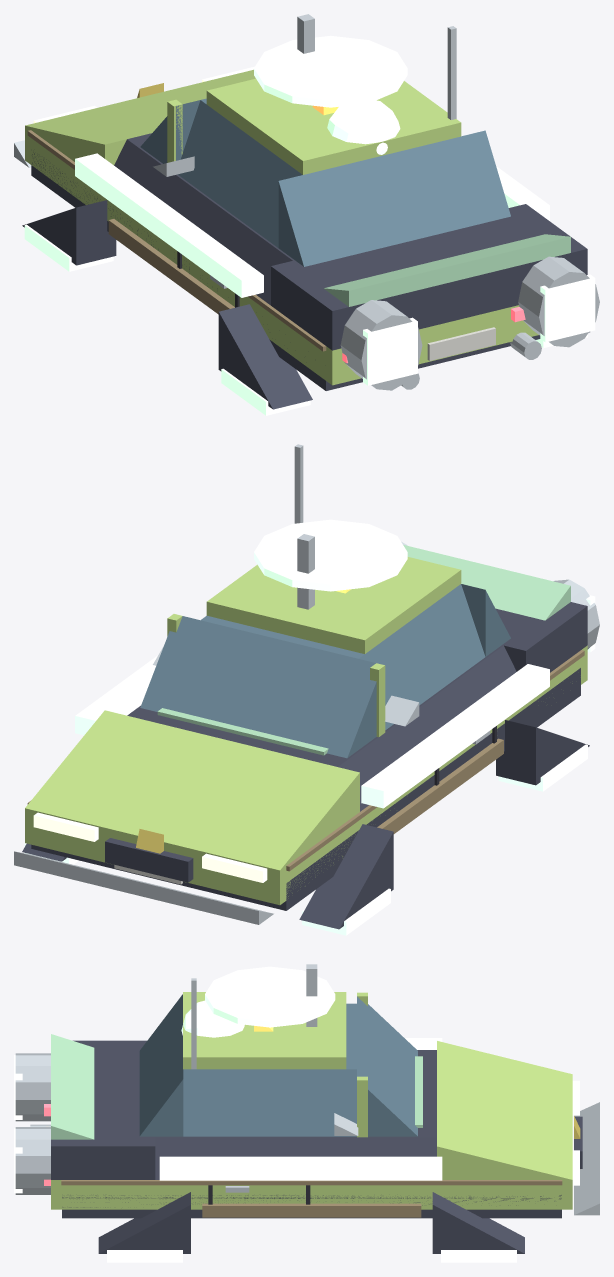
The model's file is moonbeam_mover.glb.
The picture shows the model from 3 angles, top to bottom: view 1: azimuth 30°, elevation 25°; view 2: azimuth 150°, elevation 25°; view 3: azimuth 270°, elevation 25°; orthographic projection. The views are drawn at different scales.
Visible parts, largest first — view 1: RearWindow.216, Tail.116, Roof.316, Body.316, HaloRing.016, CabinSideL.113, FloatFin-1.058, Nose.113, Ducktail.079, ShoulderL.113, HoverPodWheel_RL.058, HoverPodWheel_FL.058 (+17 smaller); view 2: Nose.113, Windshield.216, Roof.316, HaloRing.016, CabinSideL.113, Body.316, FloatFin-1.058, Sill.312, ShoulderL.113, HoverPodWheel_FL.058, Ducktail.079, Tail.116 (+19 smaller); view 3: Nose.113, CabinSideR.113, Body.316, Tail.116, Roof.316, FloatFin1.058, Windshield.216, HaloRing.016, ShoulderR.113, RearWindow.216, Ducktail.079, HoverPodWheel_FR.058 (+17 smaller).
Part boxes in pixels (bbox=[...]): RearWindow.216: bbox=[278, 130, 510, 266]; Tail.116: bbox=[271, 204, 587, 350]; Roof.316: bbox=[206, 78, 461, 174]; Body.316: bbox=[25, 126, 538, 385]; HaloRing.016: bbox=[254, 35, 407, 107]; CabinSideL.113: bbox=[178, 100, 302, 247]; FloatFin-1.058: bbox=[75, 153, 263, 297]; Nose.113: bbox=[25, 69, 255, 165]; Ducktail.079: bbox=[324, 234, 570, 306]; ShoulderL.113: bbox=[114, 139, 292, 305]; HoverPodWheel_RL.058: bbox=[218, 304, 312, 409]; HoverPodWheel_FL.058: bbox=[22, 200, 116, 265]; Nose.113: bbox=[25, 710, 359, 870]; Windshield.216: bbox=[140, 616, 376, 758]; Roof.316: bbox=[206, 557, 461, 653]; HaloRing.016: bbox=[254, 519, 407, 591]; CabinSideL.113: bbox=[359, 584, 485, 729]; Body.316: bbox=[25, 645, 587, 905]; FloatFin-1.058: bbox=[361, 664, 549, 808]; Sill.312: bbox=[31, 668, 580, 910]; ShoulderL.113: bbox=[338, 645, 516, 811]; HoverPodWheel_FL.058: bbox=[299, 824, 393, 929]; Ducktail.079: bbox=[403, 545, 570, 620]; Tail.116: bbox=[496, 602, 587, 672]; Nose.113: bbox=[437, 1041, 572, 1179]; CabinSideR.113: bbox=[183, 1069, 356, 1136]; Body.316: bbox=[51, 1180, 572, 1209]; Tail.116: bbox=[51, 1040, 155, 1179]; Roof.316: bbox=[183, 992, 346, 1069]; FloatFin1.058: bbox=[159, 1156, 442, 1180]; Windshield.216: bbox=[357, 996, 417, 1136]; HaloRing.016: bbox=[205, 966, 335, 1027]; ShoulderR.113: bbox=[155, 1137, 436, 1179]; RearWindow.216: bbox=[139, 994, 183, 1136]; Ducktail.079: bbox=[51, 1034, 94, 1139]; HoverPodWheel_FR.058: bbox=[432, 1192, 524, 1253].
Bounding box in the file's own units: 2.9 × 2.52 × 5.39.
